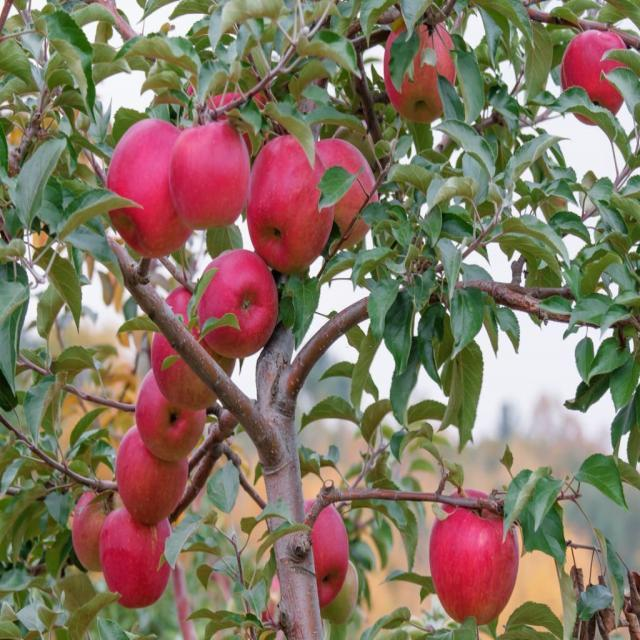Red Apple: (432, 494, 523, 623), (248, 137, 333, 261), (111, 117, 193, 242), (151, 289, 233, 403), (201, 252, 281, 356), (174, 120, 247, 232), (386, 23, 459, 115), (122, 424, 190, 522), (139, 360, 205, 460), (111, 507, 177, 607), (318, 136, 376, 234), (295, 504, 345, 602), (567, 29, 626, 111), (72, 488, 124, 568)
